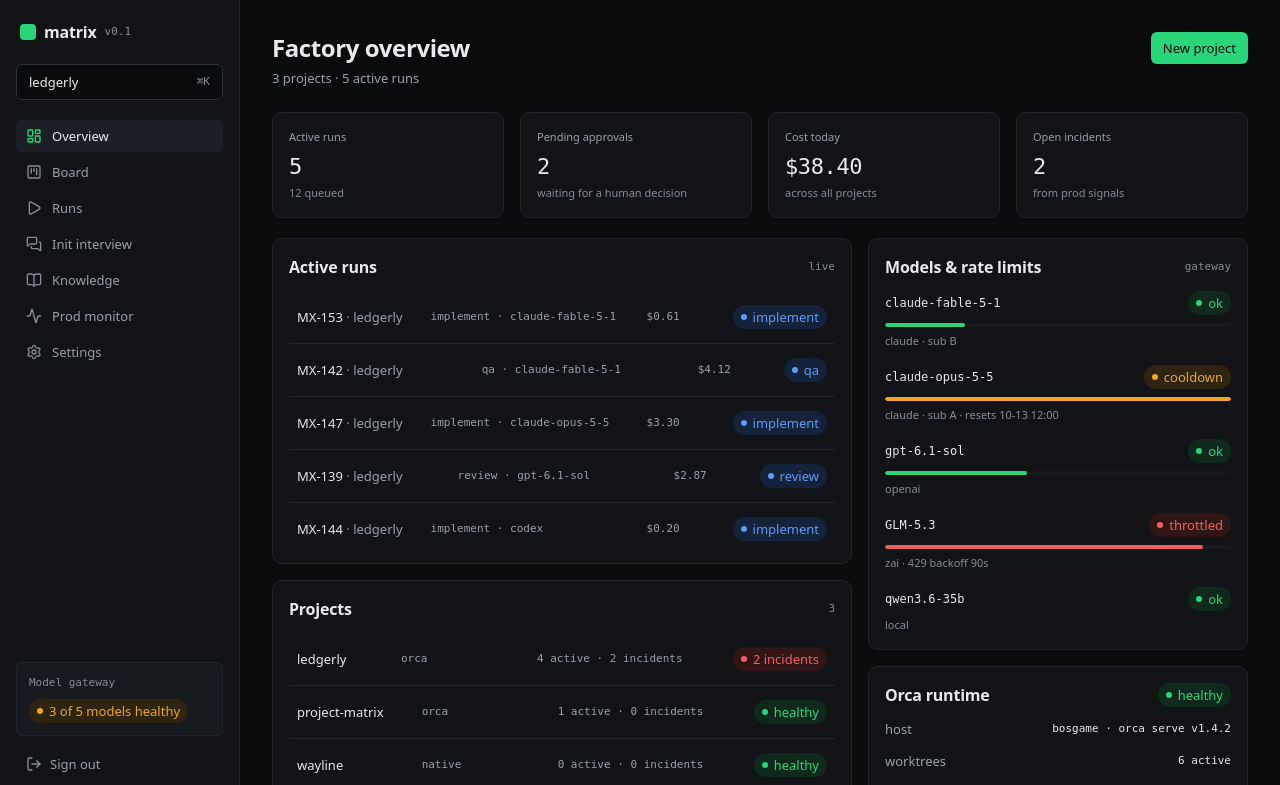
Test: session robustness › a failed logout keeps you signed in, drops cached data and offers a retry
Expected: the heading "Factory overview" is shown, [272, 32, 470, 64]
Click the button "Sign out". click: (120, 764)
box: [16, 748, 223, 780]
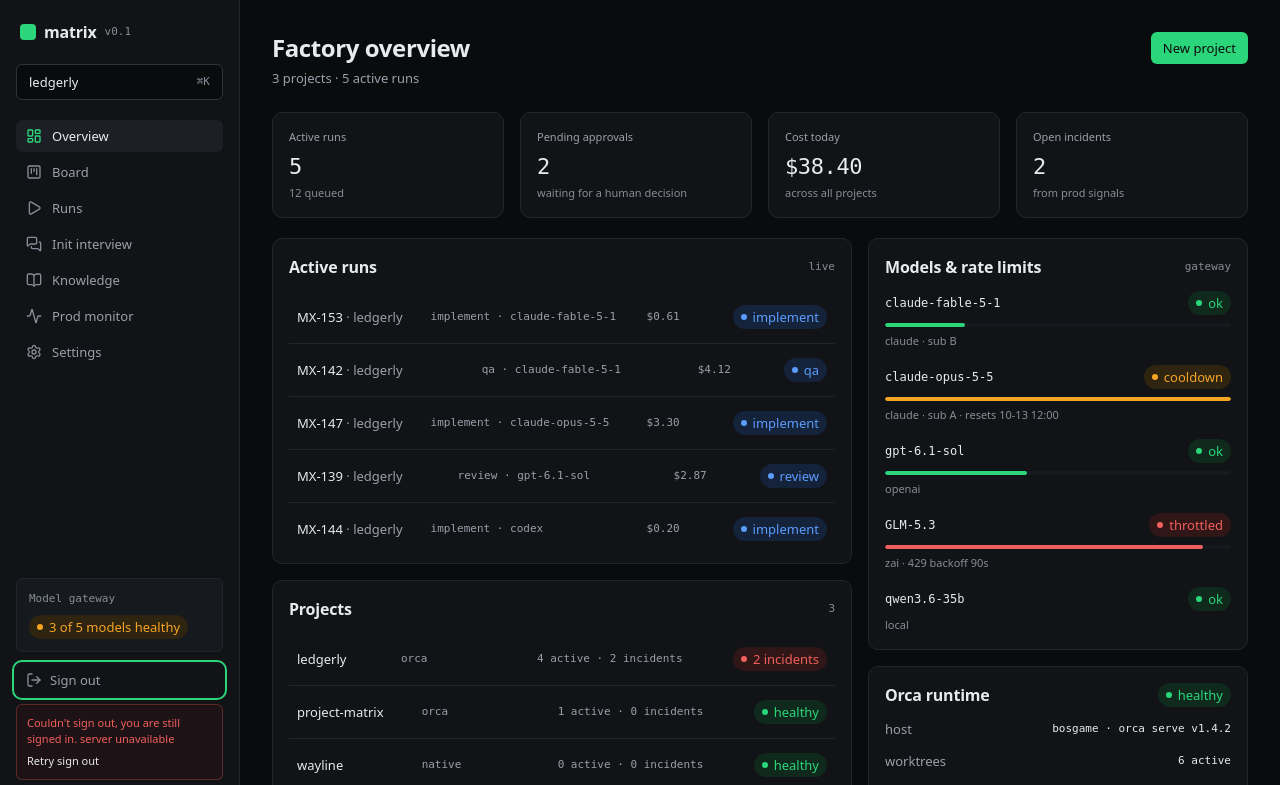
Expected: the heading "Factory overview" is shown, [272, 32, 470, 64]
Expected: the text "Couldn't sign out, you are still signed in. server unavailable Retry sign out" is shown, [16, 704, 223, 780]
Click the button "Retry sign out". click: (63, 761)
box: [27, 753, 99, 769]
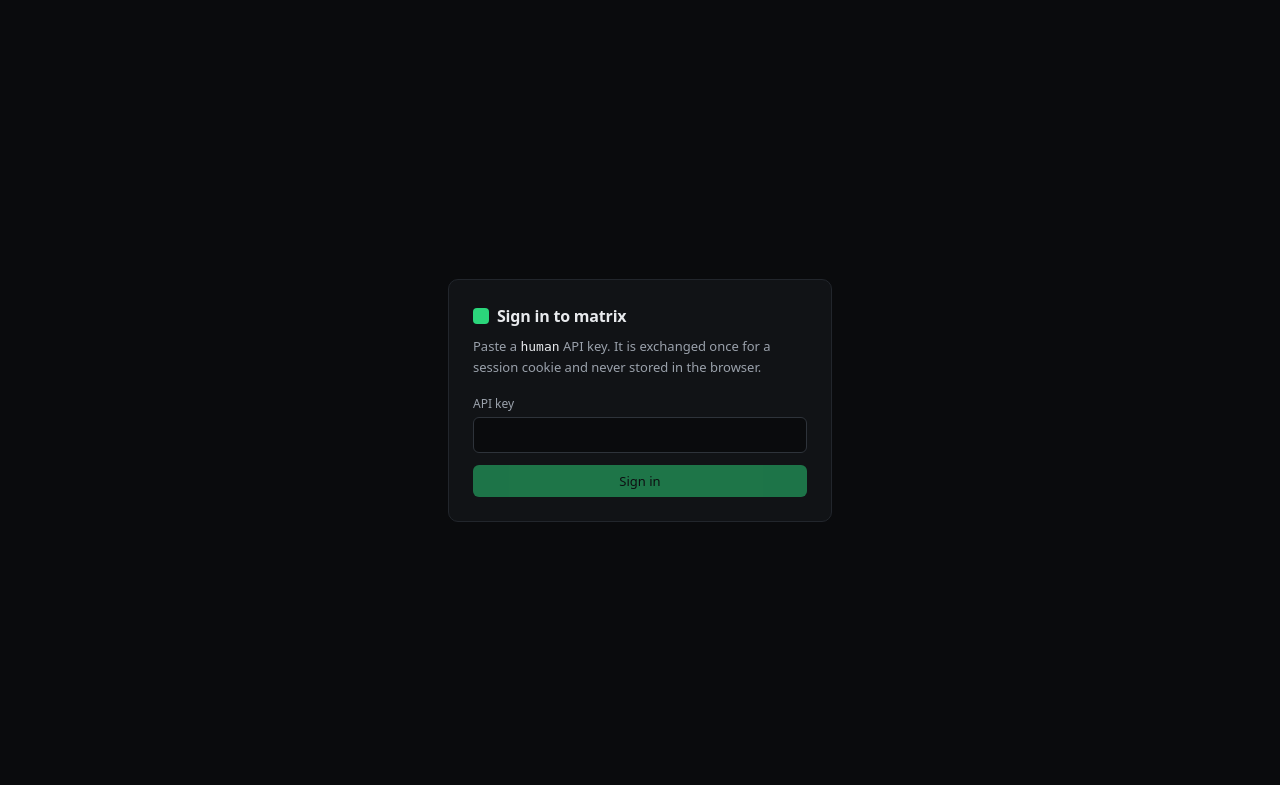
Expected: the heading "Sign in to matrix" is shown, [497, 304, 626, 328]
